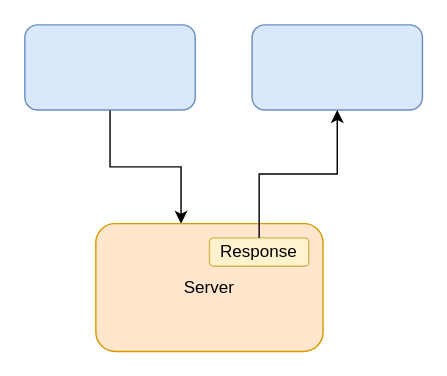
Image size: 447x376. Some labels were removed from this diagram. Each missing label, with the centre of its shape:
"ViRead" goes at (x=336, y=66).
"ViWrite" goes at (x=109, y=66).
